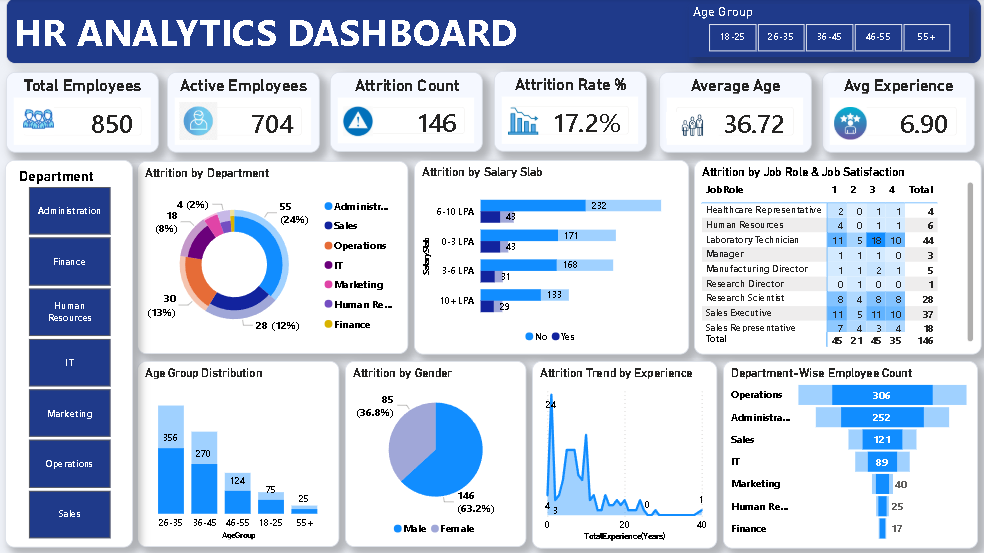

Layout of this report page (visuals, bound fields, positions):
{"tool":"powerbi","page":{"name":"Page 1","canvas":[1280,720],"ordinal":0},"visuals":[{"type":"textbox","box":[10,0,1259,85],"z":0},{"type":"cardVisual","title":"Total Employees","fields":{"Data":["CountNonNull(HR_Analytics-4.EmpID)"]},"box":[10,95,197,104],"z":1000},{"type":"cardVisual","title":"Active Employees","fields":{"Data":["CountNonNull(HR_Analytics-4.EmployeeCount)"]},"box":[218.3,95.4,196.6,104.1],"z":2000},{"type":"cardVisual","title":"Attrition Count","fields":{"Data":["Sum(HR_Analytics-4.Attrition_Count)"]},"box":[428,95.4,196.6,102.7],"z":3000},{"type":"cardVisual","title":"Avg Experience","fields":{"Data":["Avg(HR_Analytics-4.YearsatCompany)"]},"box":[1062.7,95.4,196.6,104.1],"z":4000},{"type":"cardVisual","title":"Average Age","fields":{"Data":["Avg(HR_Analytics-4.Age)"]},"box":[853,95.4,196.6,104.1],"z":5000},{"type":"cardVisual","title":"Attrition Rate %","fields":{"Data":["HR_Analytics-4.Attrition Rate %"]},"box":[640.5,94,196.6,104.1],"z":6000},{"type":"image","box":[32.3,134.2,40,43.9],"z":7000},{"type":"image","box":[1075.1,141.1,50.4,42],"z":8000},{"type":"image","box":[658.1,139.4,38.7,38.7],"z":9000},{"type":"image","box":[440.1,139.4,48.7,38.6],"z":10000},{"type":"image","box":[861.9,129,68.4,69.7],"z":11000},{"type":"image","box":[231.3,134.5,54.9,49.2],"z":12000},{"type":"donutChart","title":"Attrition by Department","fields":{"Category":["HR_Analytics-4.Department"],"Y":["Sum(HR_Analytics-4.Attrition_Count)"]},"box":[179,210,350,249],"z":13000},{"type":"clusteredBarChart","title":"Attrition by Salary Slab","fields":{"Category":["HR_Analytics-4.SalarySlab"],"Y":["CountNonNull(HR_Analytics-4.EmpID)"],"Series":["HR_Analytics-4.Attrition"]},"box":[537,209,355,251],"z":14000},{"type":"pivotTable","title":"Attrition by Job Role & Job Satisfaction","fields":{"Rows":["HR_Analytics-4.JobRole"],"Values":["Sum(HR_Analytics-4.Attrition_Count)"],"Columns":["HR_Analytics-4.JobSatisfaction"]},"box":[898,209,371,251],"z":15000},{"type":"columnChart","title":"Age Group Distribution","fields":{"Category":["HR_Analytics-4.AgeGroup"],"Y":["Sum(HR_Analytics-4.EmployeeCount)"]},"box":[179,469,261,240],"z":16000},{"type":"pieChart","title":"Attrition by Gender","fields":{"Category":["HR_Analytics-4.Gender"],"Y":["Sum(HR_Analytics-4.Attrition_Count)"]},"box":[448,469,234,240],"z":17000},{"type":"areaChart","title":"Attrition Trend by Experience","fields":{"Category":["HR_Analytics-4.TotalExperience(Years)"],"Y2":["Sum(HR_Analytics-4.Attrition_Count)"]},"box":[689,469,239,242],"z":18000},{"type":"funnel","title":"Department-Wise Employee Count","fields":{"Category":["HR_Analytics-4.Department"],"Y":["CountNonNull(HR_Analytics-4.EmpID)"]},"box":[935.6,468.7,329.2,241.9],"z":19000},{"type":"slicer","fields":{"Values":["HR_Analytics-4.Department"]},"box":[9,209,165,500],"z":20000},{"type":"slicer","title":"Age Group","fields":{"Values":["HR_Analytics-4.AgeGroup"]},"box":[892,7.2,361.4,68],"z":21000}]}

Visuals, with their boxes in screenshot pixels (x1, y1, x2, y2), scaled from the page's 1280x720 canvas onto the 984x553 screenshot:
textbox: locate(8, 0, 976, 65)
"Total Employees" cardVisual: locate(8, 73, 159, 153)
"Active Employees" cardVisual: locate(168, 73, 319, 153)
"Attrition Count" cardVisual: locate(329, 73, 480, 152)
"Avg Experience" cardVisual: locate(817, 73, 968, 153)
"Average Age" cardVisual: locate(656, 73, 807, 153)
"Attrition Rate %" cardVisual: locate(492, 72, 644, 152)
image: locate(25, 103, 56, 137)
image: locate(826, 108, 865, 141)
image: locate(506, 107, 536, 137)
image: locate(338, 107, 376, 137)
image: locate(663, 99, 715, 153)
image: locate(178, 103, 220, 141)
"Attrition by Department" donutChart: locate(138, 161, 407, 353)
"Attrition by Salary Slab" clusteredBarChart: locate(413, 161, 686, 353)
"Attrition by Job Role & Job Satisfaction" pivotTable: locate(690, 161, 976, 353)
"Age Group Distribution" columnChart: locate(138, 360, 338, 545)
"Attrition by Gender" pieChart: locate(344, 360, 524, 545)
"Attrition Trend by Experience" areaChart: locate(530, 360, 713, 546)
"Department-Wise Employee Count" funnel: locate(719, 360, 972, 546)
slicer - HR_Analytics-4.Department: locate(7, 161, 134, 545)
"Age Group" slicer: locate(686, 6, 964, 58)
